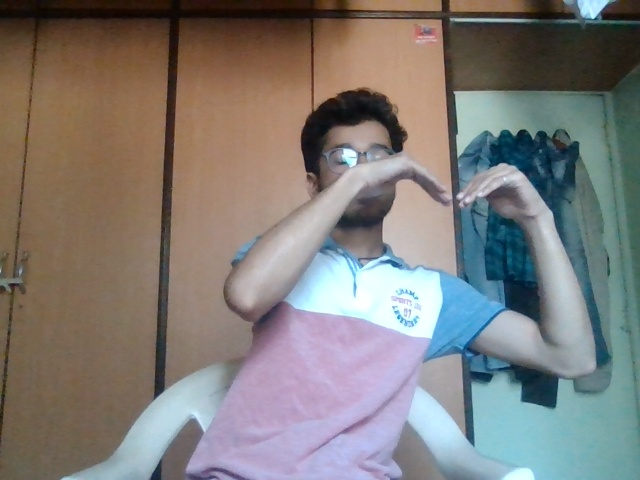we: (323, 153, 560, 265)
